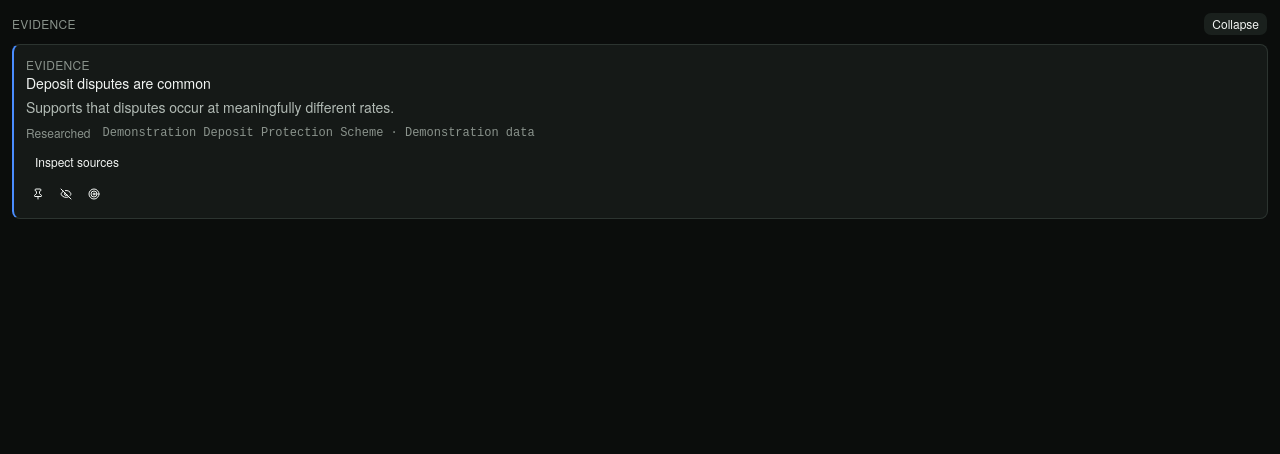
Test case: evidence provenance stays inspectable after a reload (T10 review round 2, P0-C) › is collapsed by default and reveals sources, methodology and limitations on request
The image size is (1280, 454).
Expected: the text "Demonstration Scheme Annual Report" is not shown
Click the button "Inspect sources" at (77, 162), box [26,150,128,174]
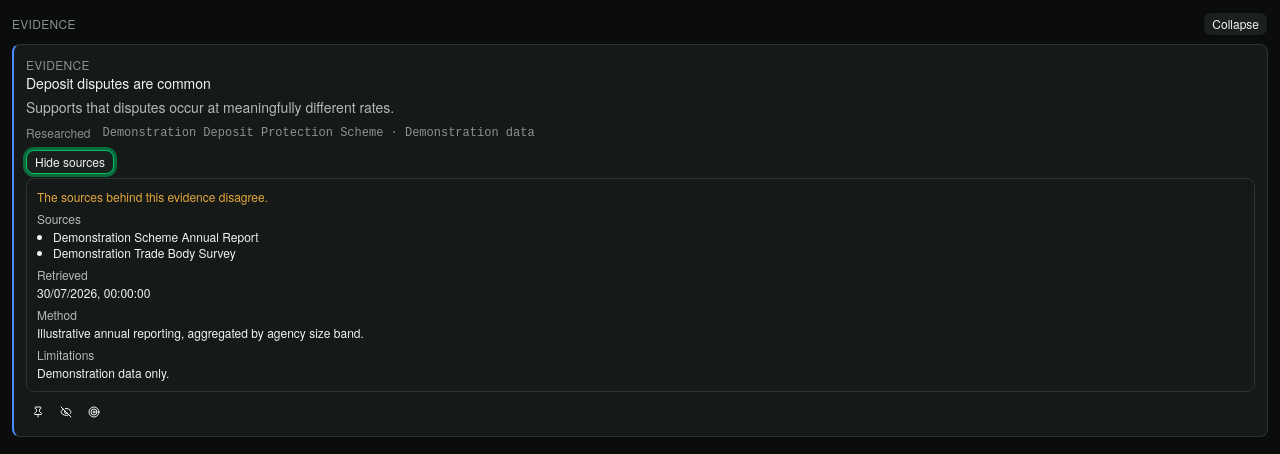
Now the list item "Demonstration Scheme Annual Report" is shown, box [53,228,258,245]
Now the list item "Demonstration Trade Body Survey" is shown, box [53,244,236,261]
Now the text "Illustrative annual reporting, aggregated by agency size band." is shown, box [37,324,364,341]
